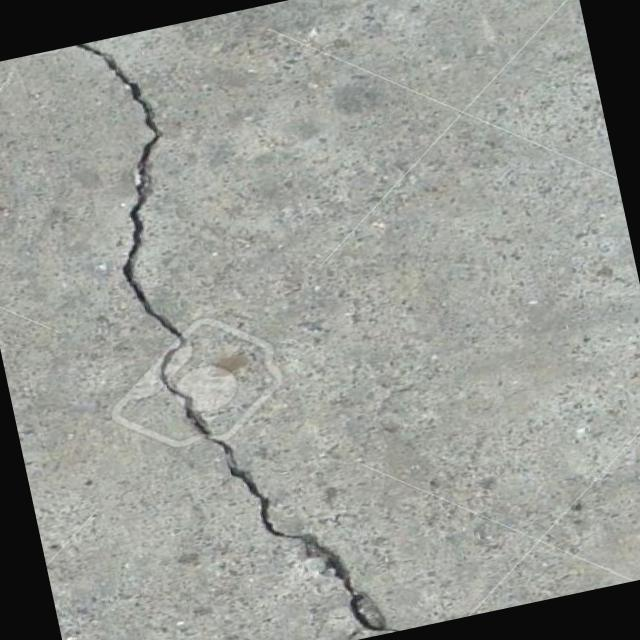crack: (71, 6, 397, 640)
